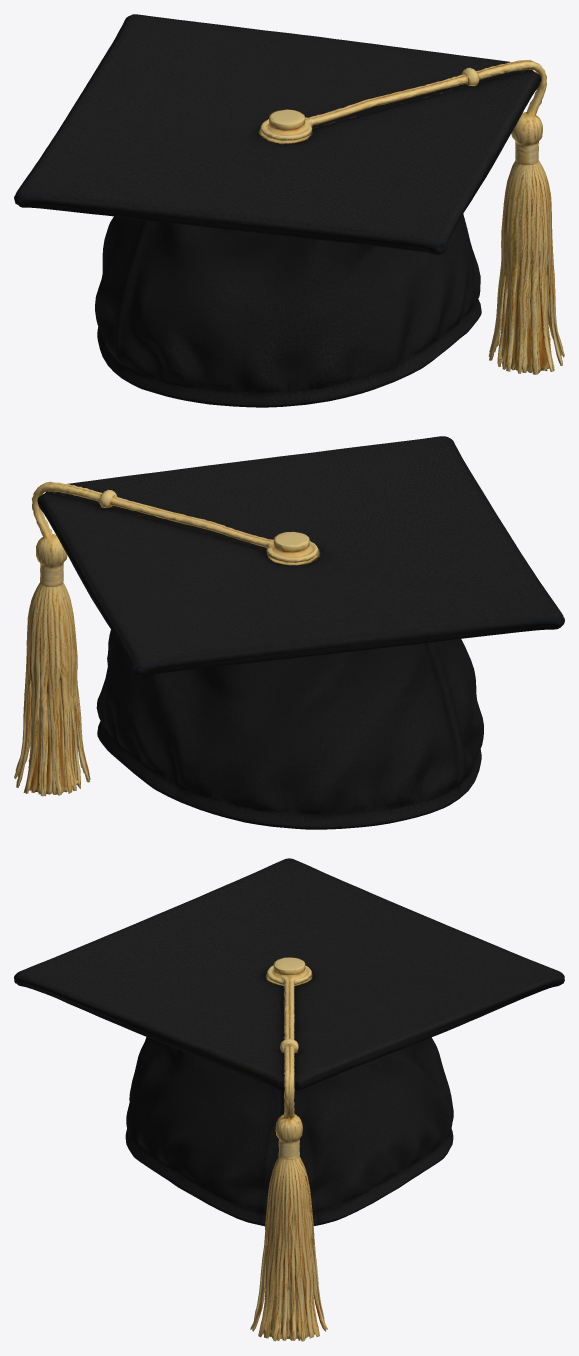
The model's file is scholar-premium-graduation-cap.glb.
3 views of the same model, one above another, from view 1: azimuth 30°, elevation 25°; view 2: azimuth 150°, elevation 25°; view 3: azimuth 270°, elevation 25° (orthographic). The views are drawn at different scales.
Parts seen in each view (by area): view 1: tripo_node_7211c142-cf11-427e-b2c6-de808b8622c5; view 2: tripo_node_7211c142-cf11-427e-b2c6-de808b8622c5; view 3: tripo_node_7211c142-cf11-427e-b2c6-de808b8622c5.
Boxes of the visible parts, x1,y1,x2,y2 form: tripo_node_7211c142-cf11-427e-b2c6-de808b8622c5: [14, 14, 564, 407]; tripo_node_7211c142-cf11-427e-b2c6-de808b8622c5: [14, 436, 564, 829]; tripo_node_7211c142-cf11-427e-b2c6-de808b8622c5: [14, 858, 564, 1341].
Size of the model in its own units: 0.5564 by 0.3 by 0.5555.
1 material, 1 textured.
